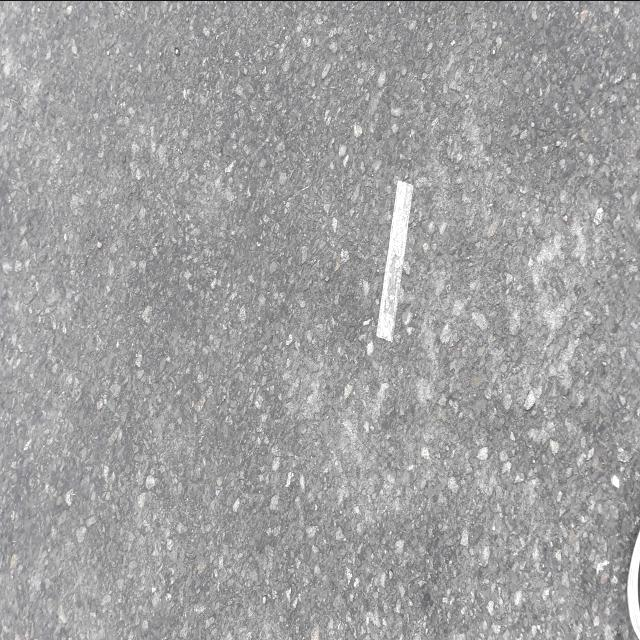Plastic film: (376, 180, 413, 342)
